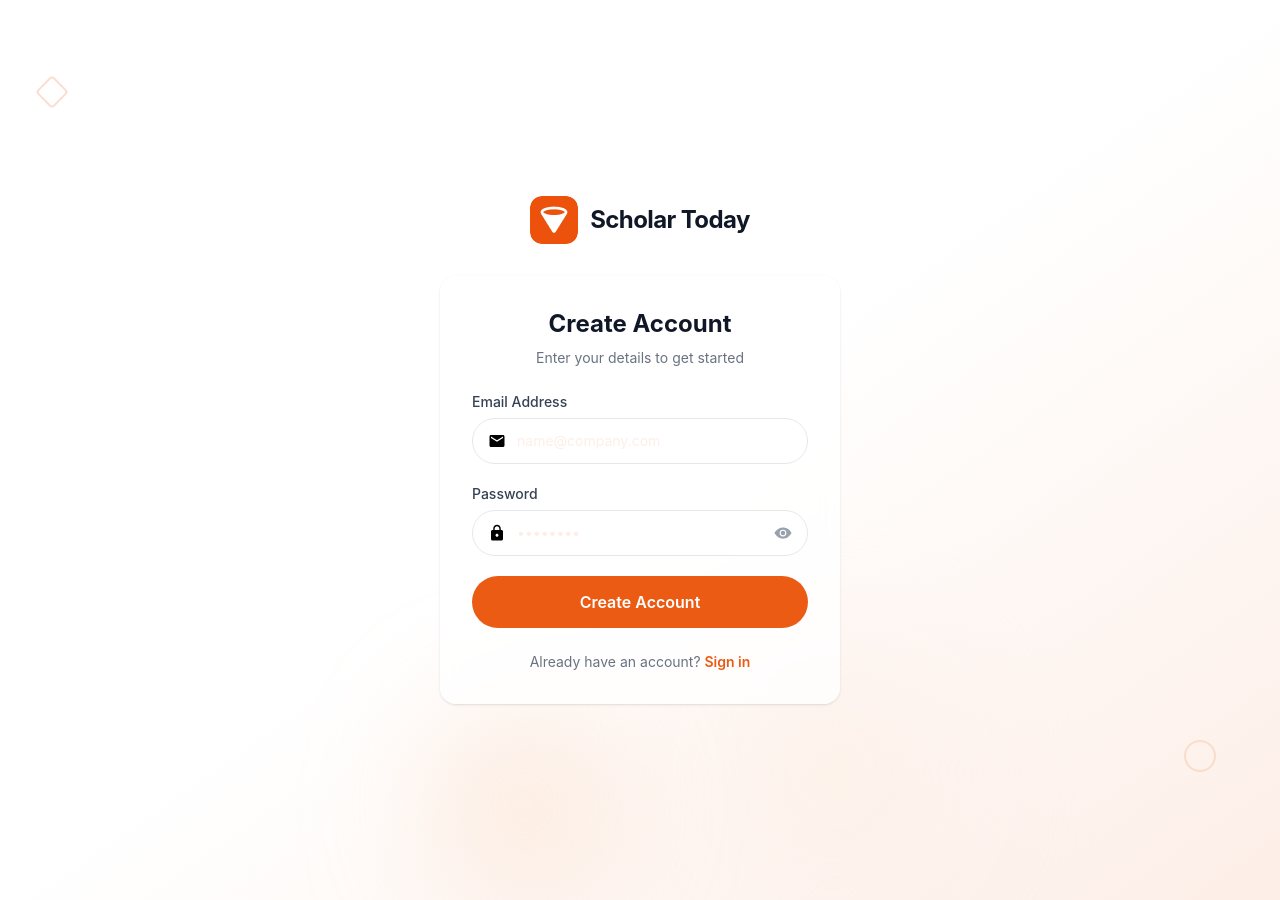
Test: RegisterPage › Validation › should show error when password is less than 6 characters
This screenshot has width=1280, height=900.
Type "user@example.com" into the field labelled "Email Address" at {"x": 640, "y": 441}, box [472,418,808,464]
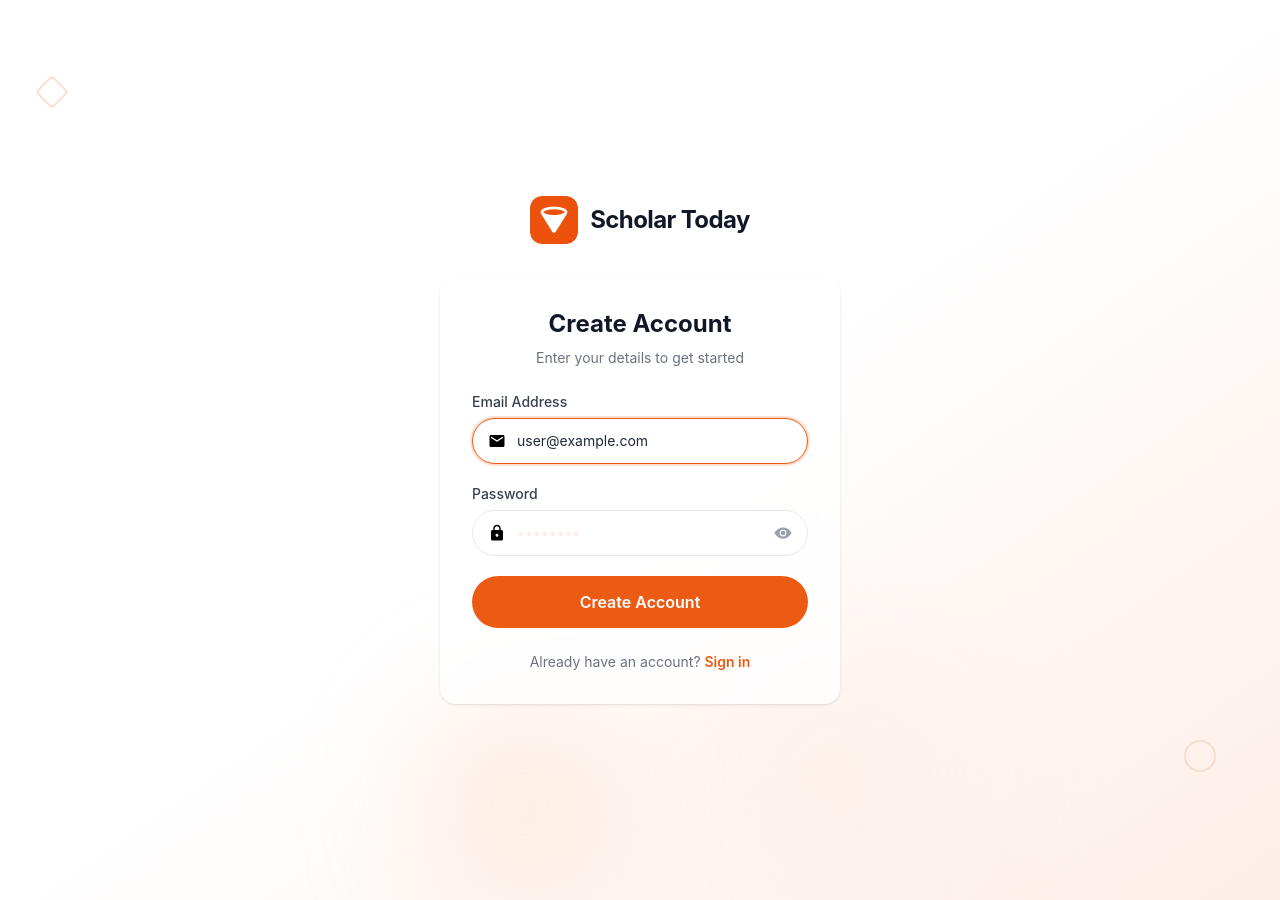
Type "12345" into the password field labelled "Password" at {"x": 640, "y": 533}, box [472,510,808,556]
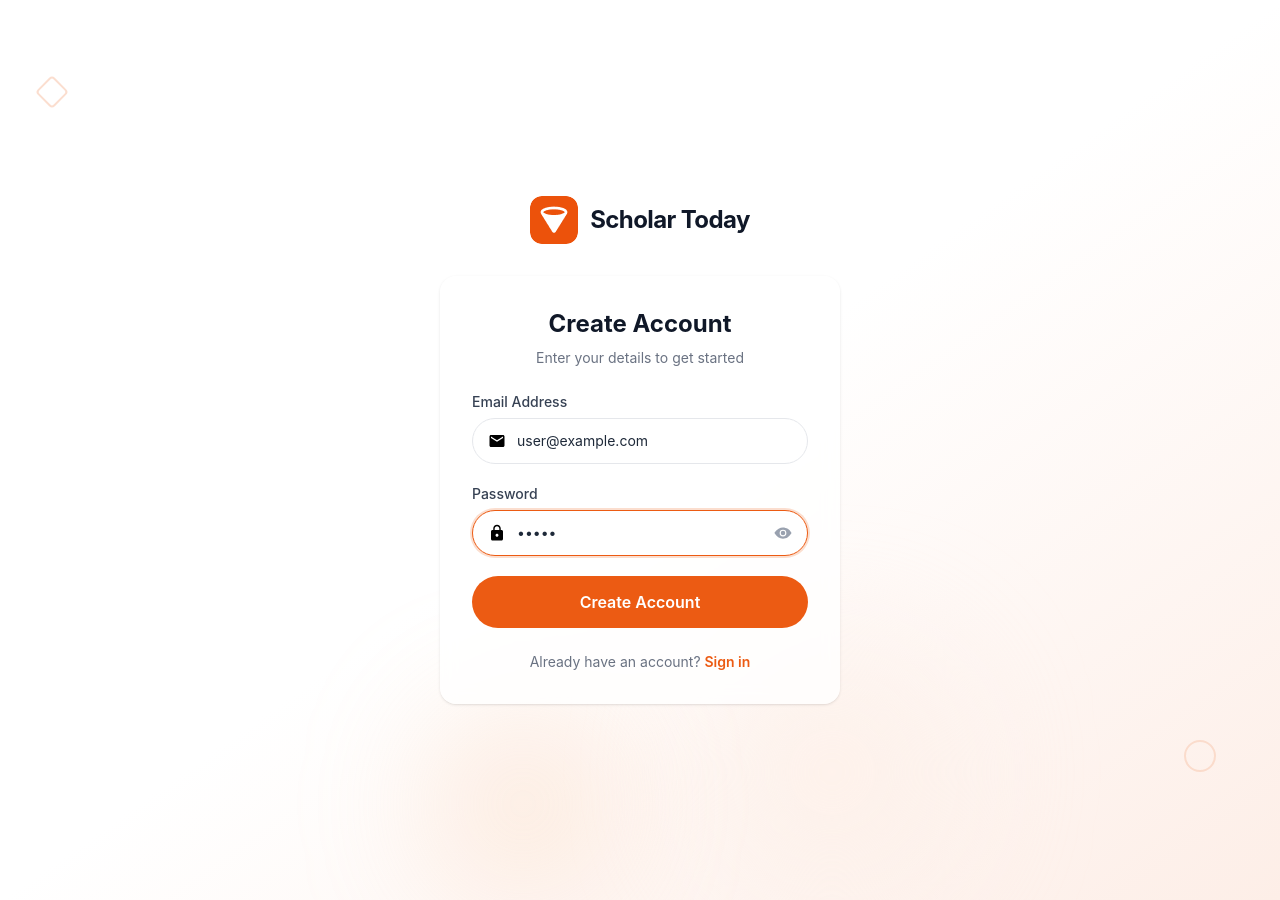
Click the button "Create Account" at {"x": 640, "y": 602}, box [472,576,808,628]
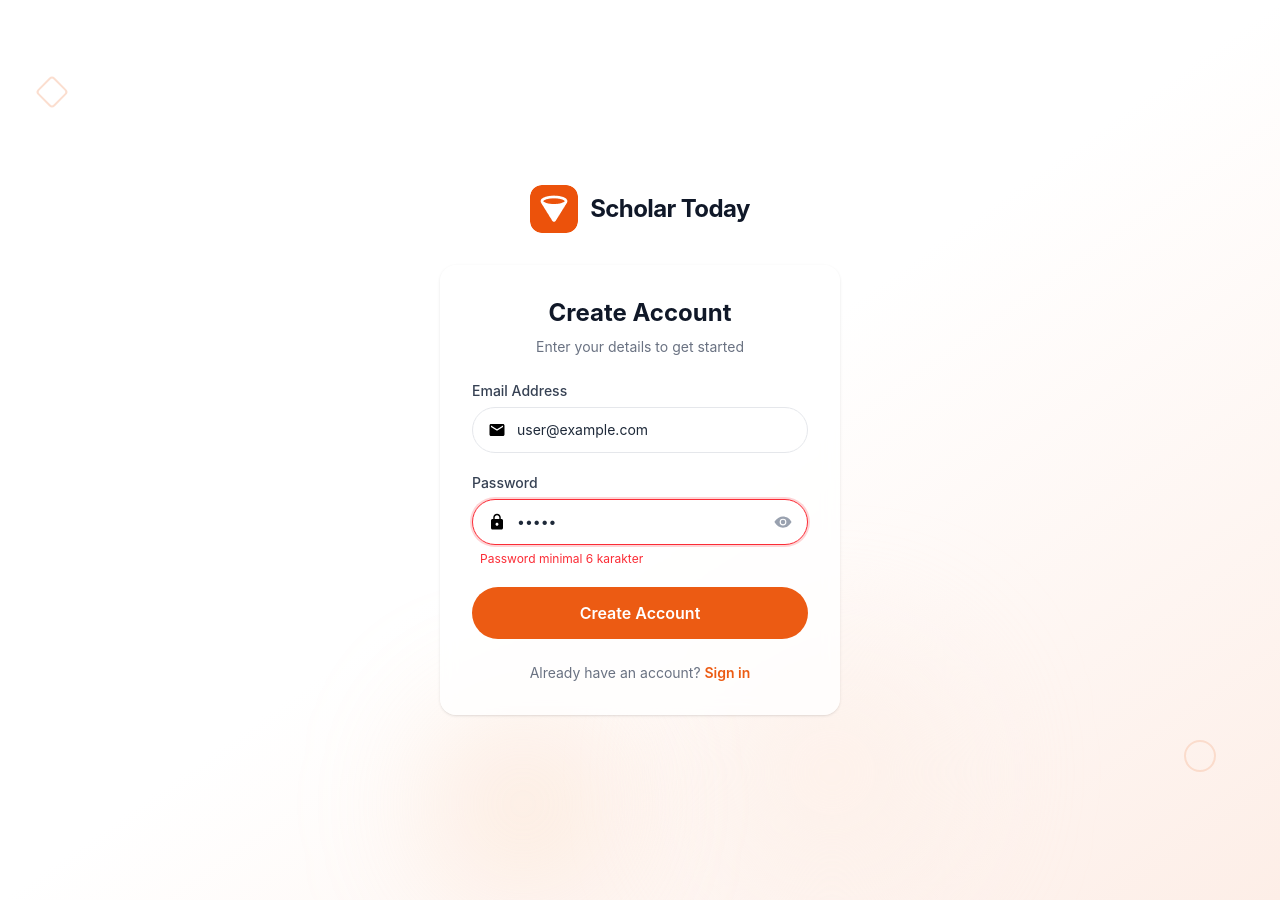
Result: the text "Password minimal 6 karakter" is shown at [480,551,643,566]
